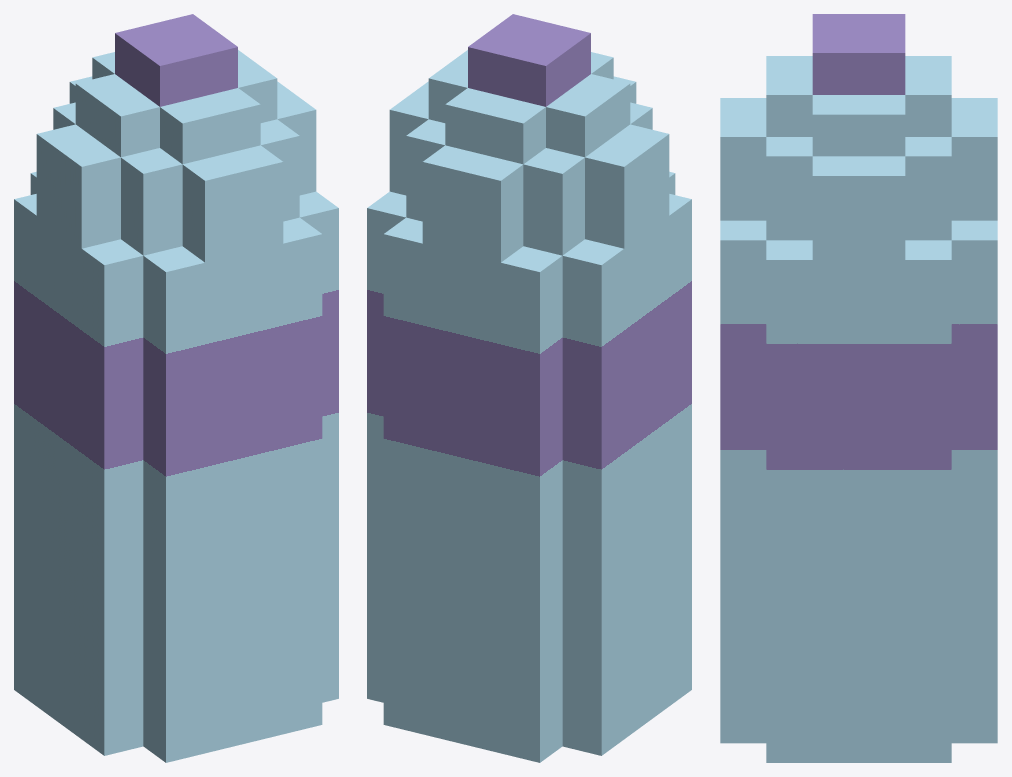
The model's file is Bottle2.dae.
3 views of the same model, side by side, from view 1: azimuth 30°, elevation 25°; view 2: azimuth 150°, elevation 25°; view 3: azimuth 270°, elevation 25° (orthographic). The views are drawn at different scales.
Parts seen in each view (by area): view 1: Bottle; view 2: Bottle; view 3: Bottle.
Boxes of the visible parts, x1=… form: Bottle: x1=14, y1=14, x2=338, y2=762; Bottle: x1=367, y1=14, x2=691, y2=762; Bottle: x1=720, y1=14, x2=997, y2=762.
Size of the model in its own units: 6 by 16 by 6.
Materials: 1 (1 with a texture image).
